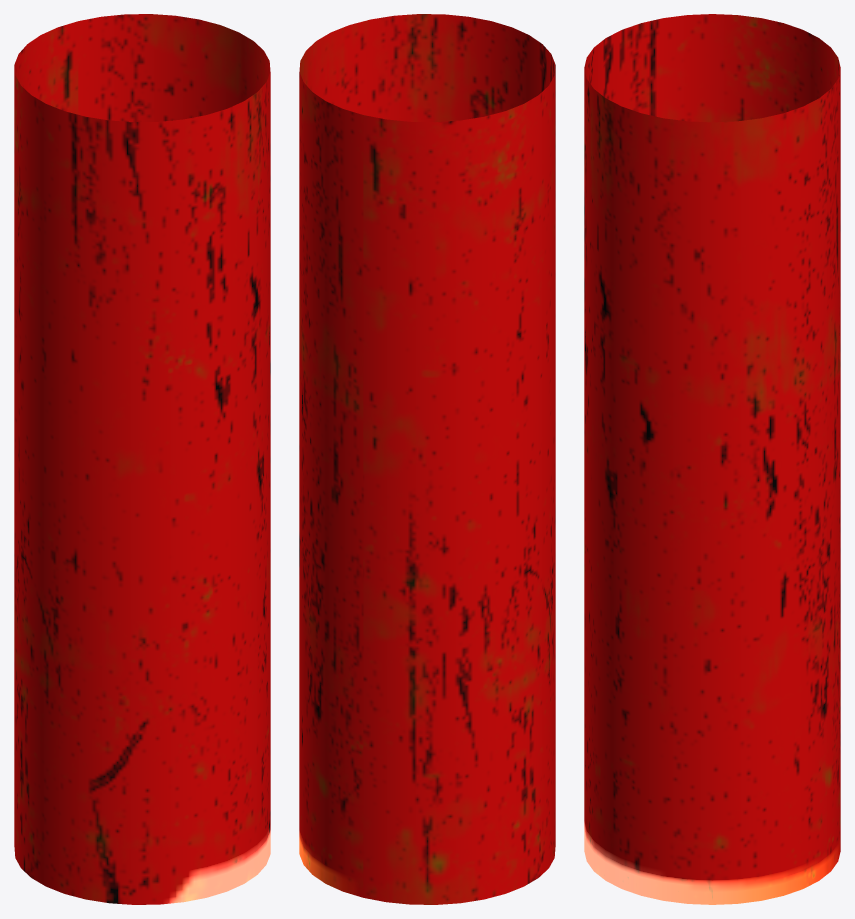
File: SM_IronPipe_straight_02.fbx
3 renders of one model, left to right at view 1: azimuth 30°, elevation 25°; view 2: azimuth 150°, elevation 25°; view 3: azimuth 270°, elevation 25°, orthographic.
Visible parts, largest first — view 1: SM_IronPipe_straight_02_LOD0; view 2: SM_IronPipe_straight_02_LOD0; view 3: SM_IronPipe_straight_02_LOD0.
Part boxes in pixels (x1,y1,x2,y2): SM_IronPipe_straight_02_LOD0: (14,14,270,904); SM_IronPipe_straight_02_LOD0: (299,14,555,904); SM_IronPipe_straight_02_LOD0: (584,14,840,904).
Bounding box in the file's own units: 14.85 × 14.85 × 50.
